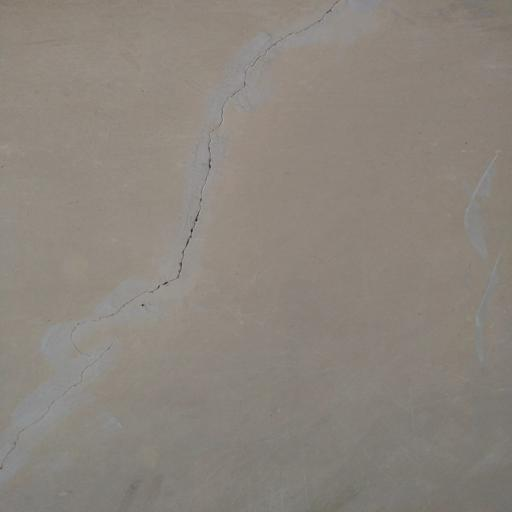minor_crack: (20, 0, 352, 468)
